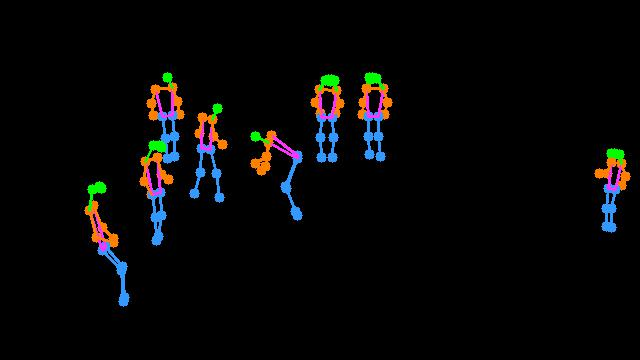normal: (77, 172, 142, 314), (134, 133, 178, 252)
